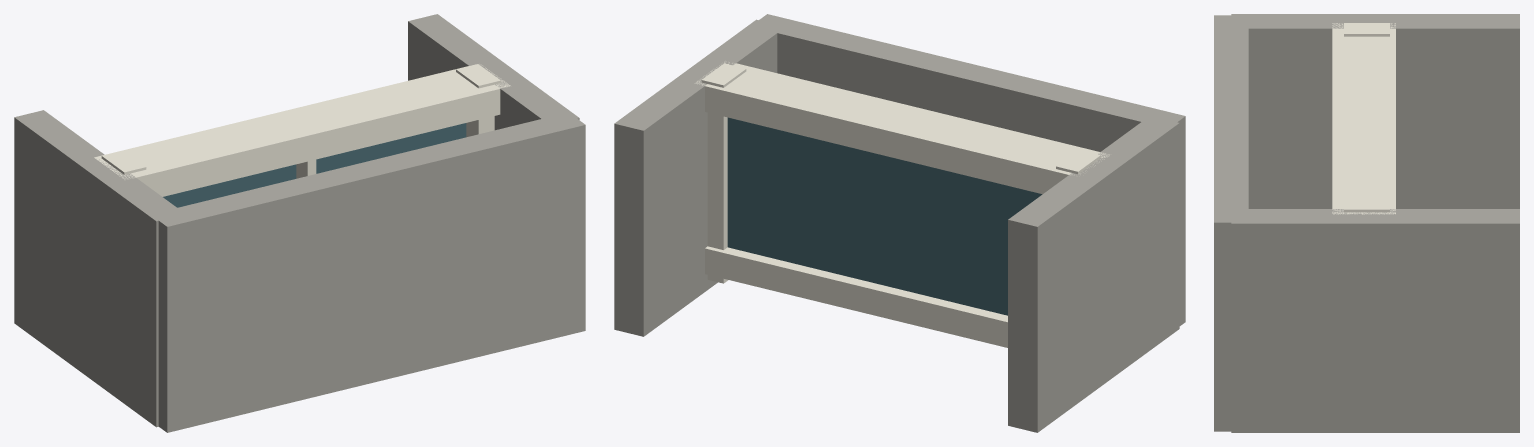
3 renders of one model, left to right at view 1: azimuth 30°, elevation 25°; view 2: azimuth 150°, elevation 25°; view 3: azimuth 270°, elevation 25°, orthographic.
Parts seen in each view (by area): view 1: QH-A0107_V01_geometry; view 2: QH-A0107_V01_geometry; view 3: QH-A0107_V01_geometry.
Boxes of the visible parts, x1,y1,x2,y2 form: QH-A0107_V01_geometry: (14, 14, 585, 432); QH-A0107_V01_geometry: (614, 14, 1185, 432); QH-A0107_V01_geometry: (1214, 14, 1519, 432).
Bounding box in the file's own units: 1.72 × 0.81 × 1.06.
